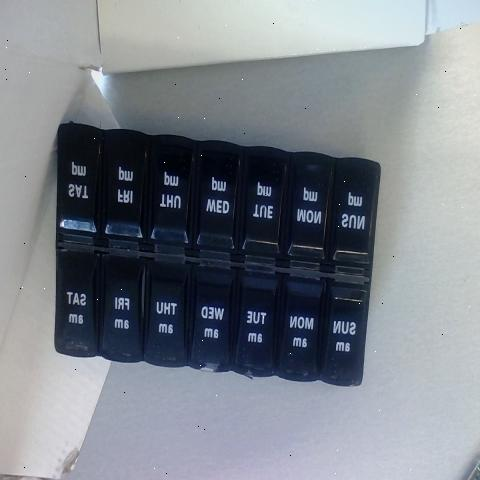FRI-am: (100, 262, 145, 360)
FRI-pm: (102, 137, 148, 246)
MON-am: (282, 280, 322, 382)
MON-pm: (286, 166, 329, 260)
SAT-am: (56, 254, 98, 354)
SAT-pm: (58, 131, 100, 237)
SUN-am: (322, 291, 366, 383)
SUN-pm: (330, 168, 378, 263)
THU-am: (146, 264, 190, 362)
THU-pm: (151, 141, 190, 250)
TUE-am: (238, 274, 276, 370)
TUE-pm: (240, 160, 284, 260)
WED-am: (192, 271, 232, 373)
WED-pm: (195, 152, 239, 251)
